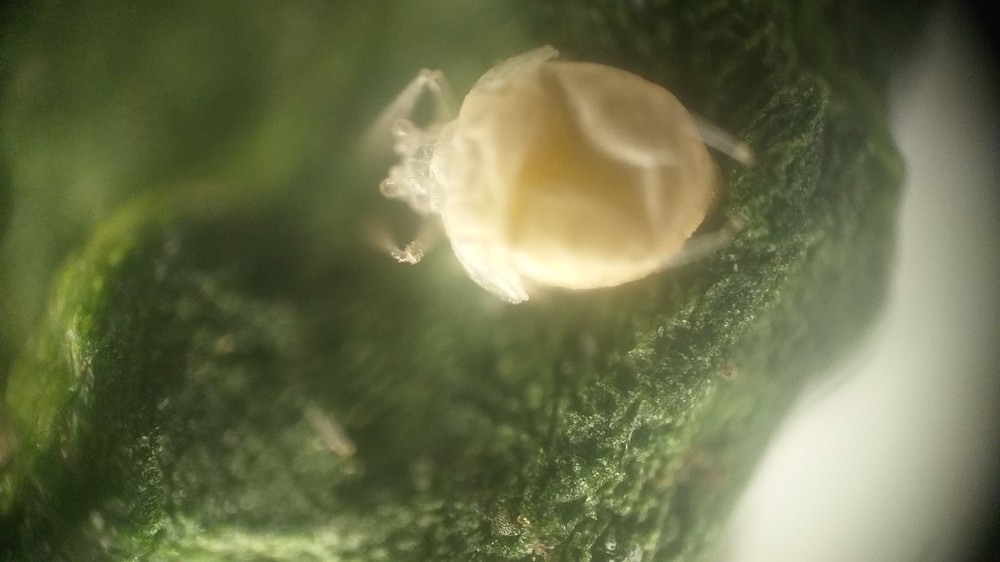Pulgon: (350, 41, 771, 317)
